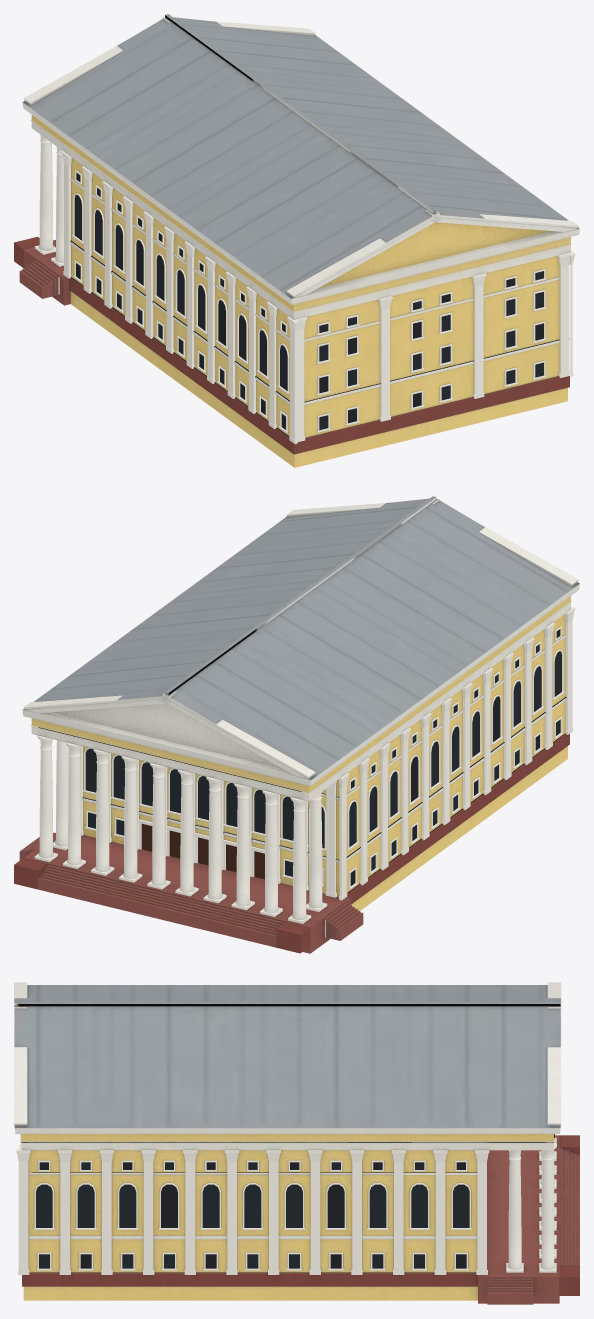
The model's file is drama_theatre_lod1.glb.
3 views of the same model, one above another, from view 1: azimuth 30°, elevation 25°; view 2: azimuth 150°, elevation 25°; view 3: azimuth 270°, elevation 25° (orthographic).
Parts seen in each view (by area): view 1: drama_theatre_lod1; view 2: drama_theatre_lod1; view 3: drama_theatre_lod1.
Boxes of the visible parts, x1=… form: drama_theatre_lod1: x1=14, y1=14, x2=579, y2=467; drama_theatre_lod1: x1=14, y1=496, x2=579, y2=953; drama_theatre_lod1: x1=14, y1=982, x2=579, y2=1304.
Bounding box in the file's own units: 44.6 × 30.07 × 67.13.
Materials: 4 (4 with a texture image).
